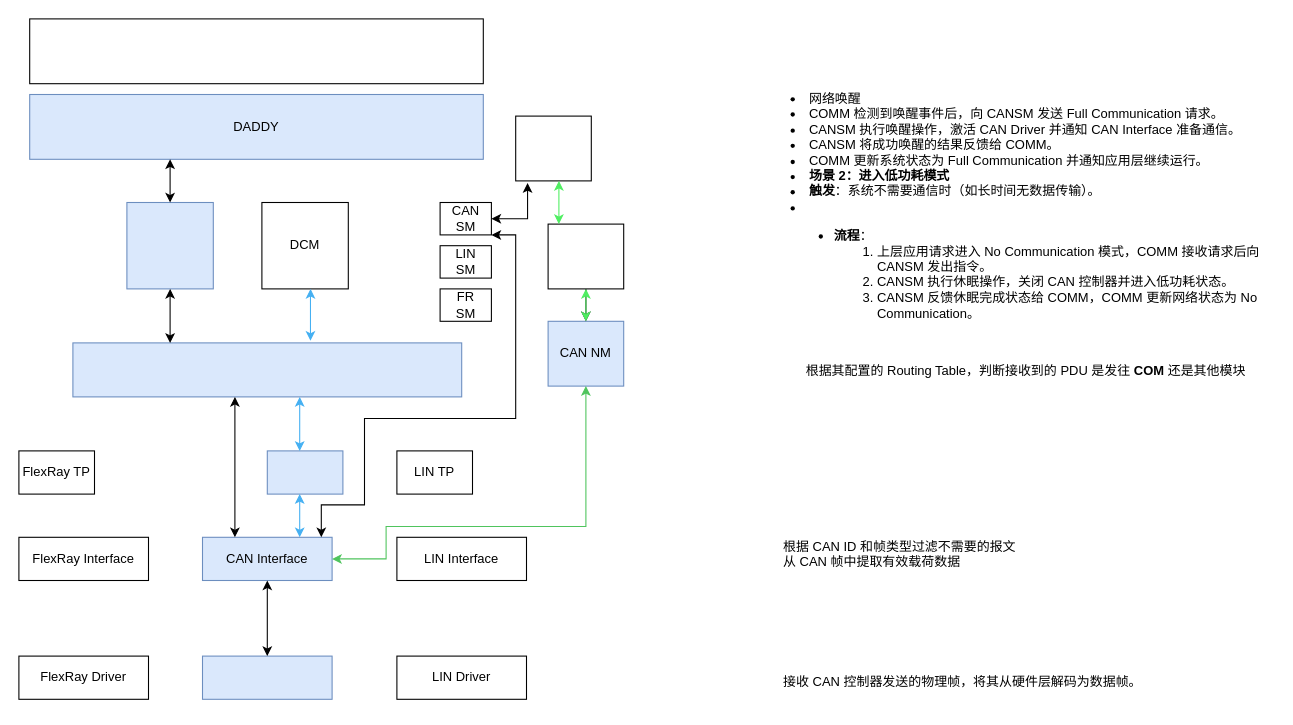
The diagram is 1293 pixels wide and 725 high, and some of its shapes have lost their labels. The shapes that lost their labels are listed below. From the top down, each one's centre as x and y in pixels, then its label:
the point at 256,51: ASW
the point at 553,148: COMM
the point at 169,245: COM
the point at 585,256: Generic NM Interf.
the point at 267,369: PDU Router
the point at 304,472: CAN TP
the point at 266,677: CAN Driver
